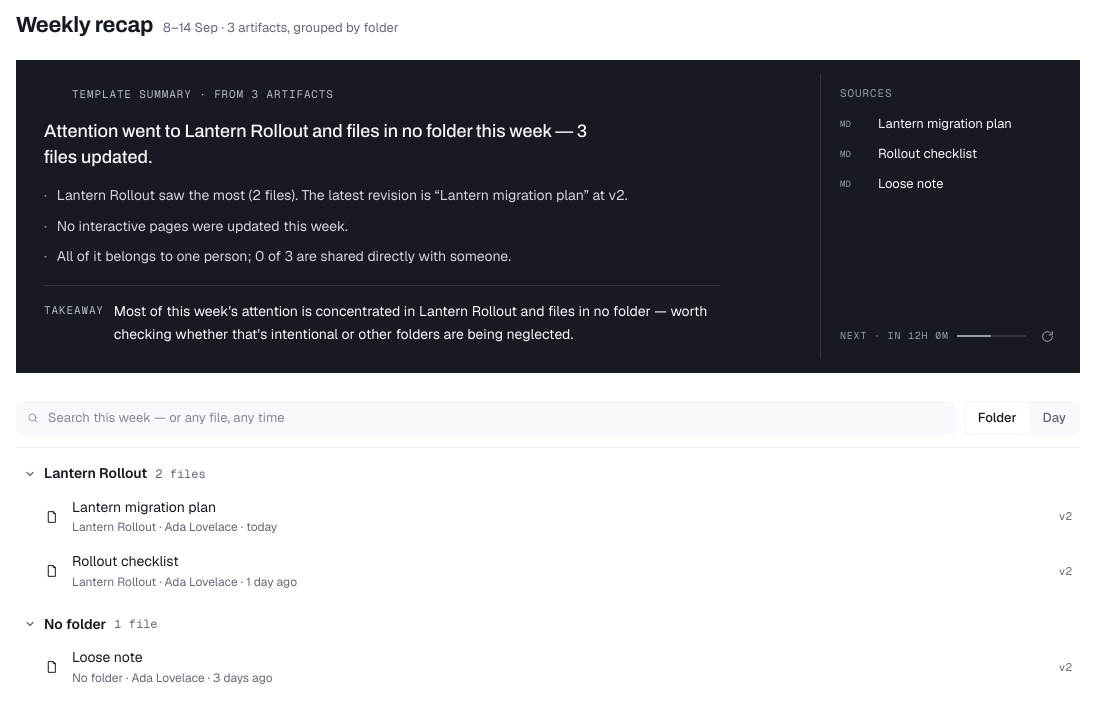
Test: ContextPage › searches across every week and ranks the matches
The image size is (1097, 714).
Type "lantern" into the field labelled "Search this week — or any file, any time" at (496, 418), box top-left (46, 408), bottom-right (946, 428)
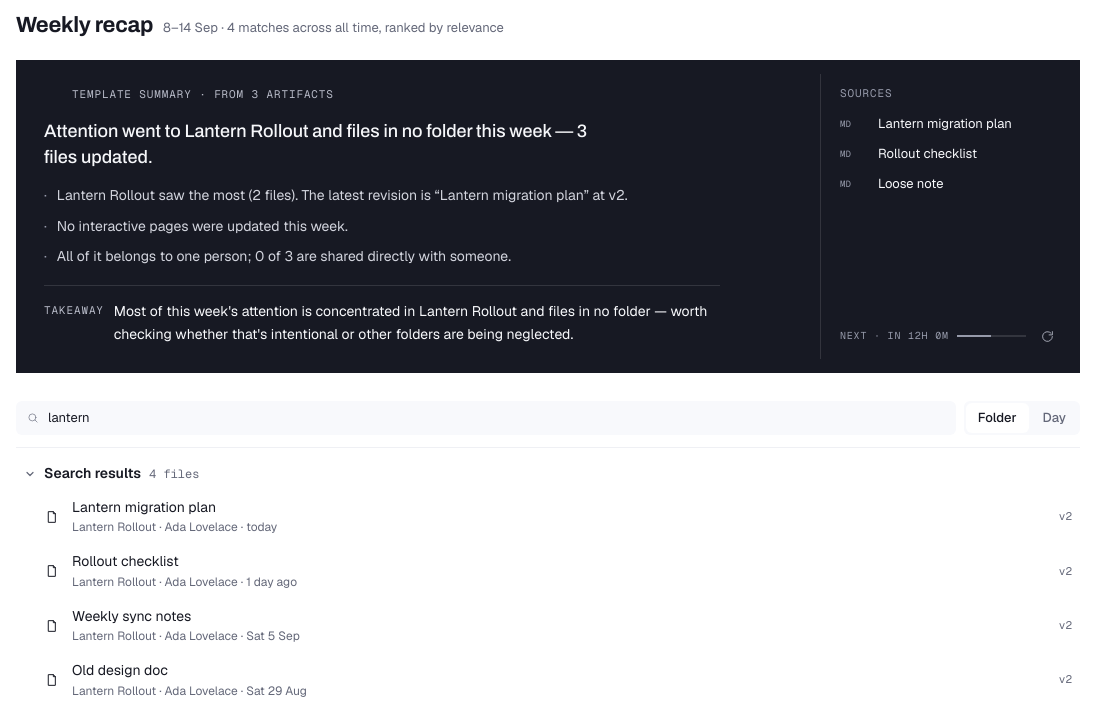
Check: the text "8–14 Sep · 4 matches across all time, ranked by relevance" is shown, box top-left (163, 19), bottom-right (504, 37)
Check: the button "Search results 4 files" is shown, box top-left (16, 448), bottom-right (1080, 490)
